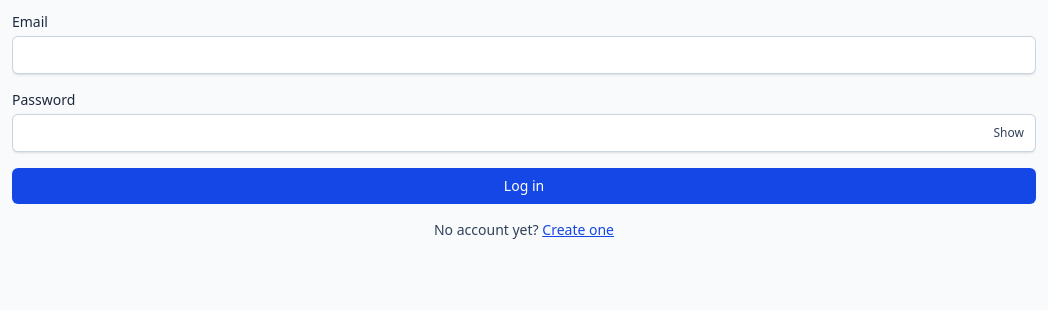
Test: LoginForm › shows the retry message on a proxy 504 (AC-ERR-5)
The width and height of the screenshot is (1048, 310).
Type "ada@example.com" into the field labelled "Email" at coordinates (524, 55), box x1=12 y1=36 x2=1036 y2=74
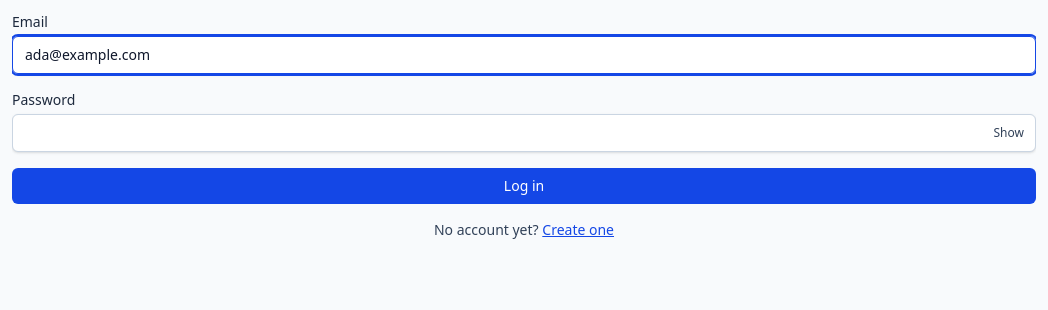
Type "correcthorse1" into the password field labelled "Password" at coordinates (524, 133), box x1=12 y1=114 x2=1036 y2=152
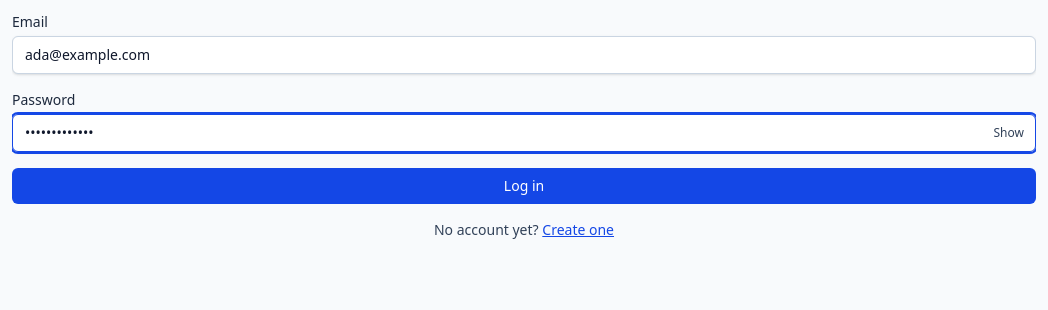
Click the button "Log in" at coordinates (524, 186), box x1=12 y1=168 x2=1036 y2=204
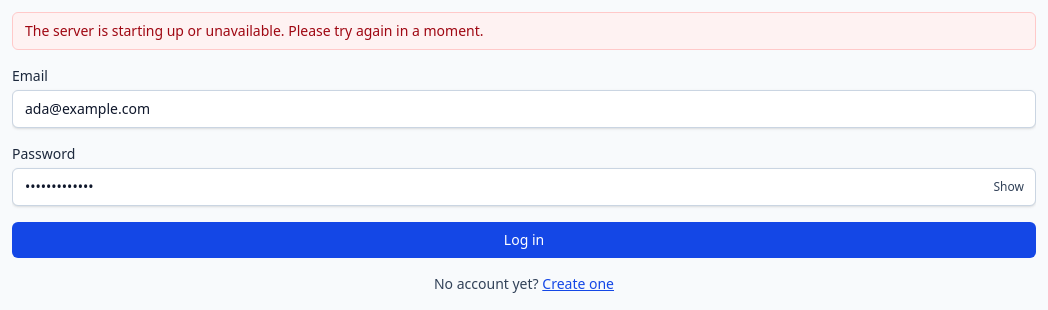
Check: the message reads "The server is starting up or unavailable. Please try again in a moment.", box x1=25 y1=21 x2=484 y2=40
